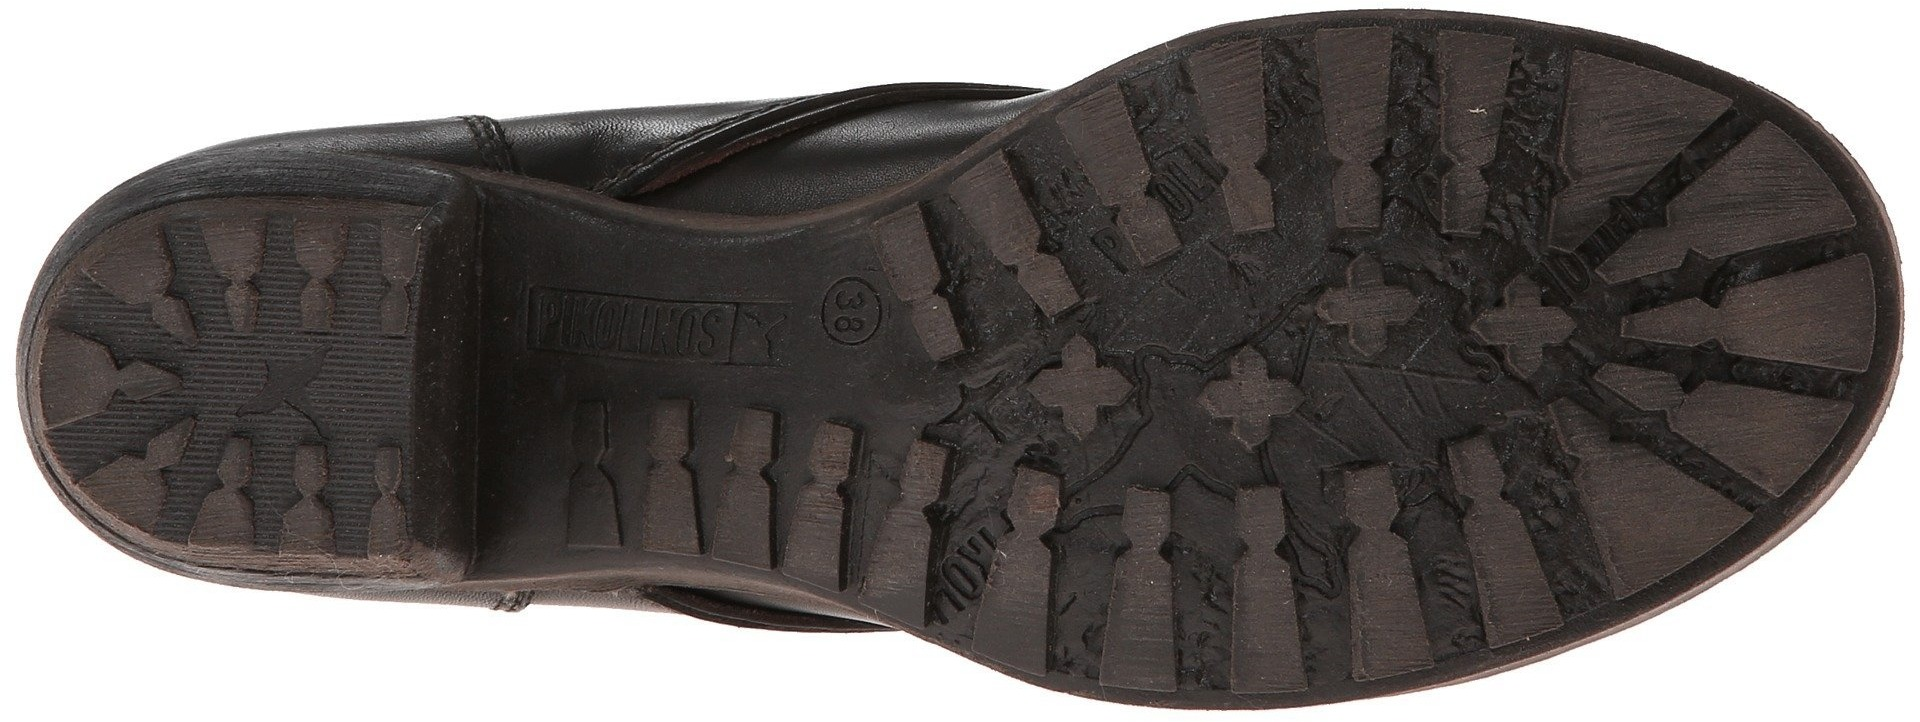bowtie: (1589, 103, 1911, 439), (1213, 444, 1442, 712), (1157, 2, 1414, 241), (850, 430, 1076, 699), (170, 421, 358, 574)
circle: (796, 251, 905, 372)
exclude: (209, 569, 958, 709)
line: (170, 421, 358, 574), (220, 324, 359, 447)
star: (1013, 327, 1145, 475), (220, 324, 359, 447), (1191, 332, 1311, 463), (1309, 244, 1429, 368), (1464, 262, 1580, 381)
text: (1157, 2, 1414, 241), (850, 430, 1076, 699), (796, 251, 905, 372)
